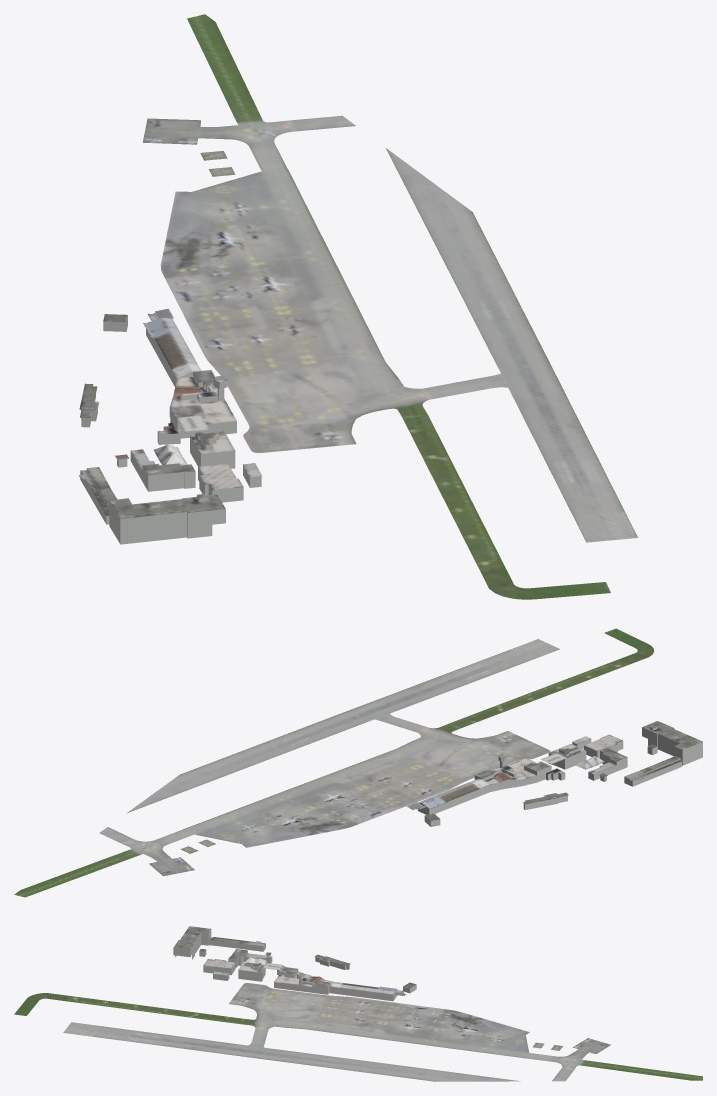
The model's file is LSZA_-1_-1.glb.
3 views of the same model, one above another, from view 1: azimuth 30°, elevation 25°; view 2: azimuth 150°, elevation 25°; view 3: azimuth 270°, elevation 25° (orthographic). The views are drawn at different scales.
Parts seen in each view (by area): view 1: pavement_LSZA_pavement_5427_2191, pavement_LSZA_pavement_5427_2190, building_7930813f134b3a3f, building_1259e768b114d835, building_12d0dc7dfdea6692, building_1aca070c3a84aea3; view 2: pavement_LSZA_pavement_5427_2191, pavement_LSZA_pavement_5427_2190, building_7930813f134b3a3f, building_1259e768b114d835, building_12d0dc7dfdea6692, building_1aca070c3a84aea3; view 3: pavement_LSZA_pavement_5427_2191, pavement_LSZA_pavement_5427_2190, building_7930813f134b3a3f, building_1259e768b114d835, building_1aca070c3a84aea3, building_12d0dc7dfdea6692.
Boxes of the visible parts, x1,y1,x2,y2 form: pavement_LSZA_pavement_5427_2191: (143,14,550,439); pavement_LSZA_pavement_5427_2190: (245,365,637,599); building_7930813f134b3a3f: (80,423,261,544); building_1259e768b114d835: (79,415,261,518); building_12d0dc7dfdea6692: (79,317,236,424); building_1aca070c3a84aea3: (81,329,236,438); pavement_LSZA_pavement_5427_2191: (14,711,536,897); pavement_LSZA_pavement_5427_2190: (348,628,654,757); building_7930813f134b3a3f: (543,727,702,786); building_1259e768b114d835: (541,721,702,780); building_12d0dc7dfdea6692: (418,754,568,808); building_1aca070c3a84aea3: (418,756,567,814); pavement_LSZA_pavement_5427_2191: (260,984,702,1081); pavement_LSZA_pavement_5427_2190: (14,983,260,1058); building_7930813f134b3a3f: (173,929,284,981); building_1259e768b114d835: (173,926,284,975); building_1aca070c3a84aea3: (274,957,397,1001); building_12d0dc7dfdea6692: (274,954,396,994).
Bounding box in the file's own units: 391 × 20.32 × 779.
3 materials, 2 textured.
